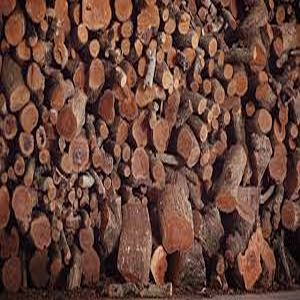log: (160, 212, 192, 257), (9, 184, 33, 233), (82, 1, 113, 31), (135, 3, 160, 40), (28, 214, 52, 251), (68, 137, 93, 172), (270, 142, 289, 187), (149, 118, 174, 151), (96, 89, 118, 126), (3, 257, 25, 294), (78, 247, 100, 284), (131, 112, 154, 147), (25, 62, 44, 104), (56, 107, 79, 141), (216, 187, 239, 218), (4, 11, 24, 46), (174, 126, 194, 161), (88, 60, 107, 96), (19, 102, 39, 135), (117, 91, 139, 121), (71, 60, 89, 94), (280, 200, 299, 231), (9, 84, 30, 112), (227, 70, 249, 96), (16, 130, 37, 156), (47, 84, 66, 112), (24, 1, 49, 22), (32, 40, 52, 66), (1, 186, 11, 233), (257, 108, 273, 136), (112, 1, 133, 22), (2, 114, 18, 141), (78, 227, 97, 249), (53, 40, 67, 69), (15, 42, 33, 62), (53, 1, 69, 23), (176, 15, 192, 36), (205, 35, 219, 58), (75, 24, 90, 45), (119, 21, 135, 39), (88, 39, 102, 59), (212, 85, 226, 105), (221, 64, 236, 82), (126, 68, 138, 89), (160, 70, 172, 91), (71, 2, 82, 24), (162, 18, 177, 34), (13, 159, 27, 176), (97, 123, 110, 140), (206, 58, 217, 78), (195, 96, 205, 118), (119, 39, 132, 55), (190, 32, 202, 49), (121, 145, 132, 163), (202, 79, 213, 96), (37, 20, 50, 34), (118, 73, 128, 90), (113, 142, 123, 159), (133, 39, 143, 55), (245, 101, 255, 116), (161, 8, 171, 22), (28, 30, 38, 44), (6, 166, 16, 180)
